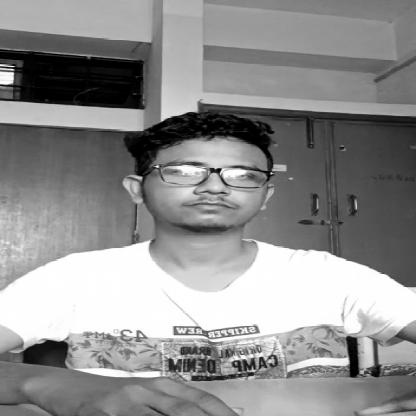Normal: (132, 114, 278, 236)
